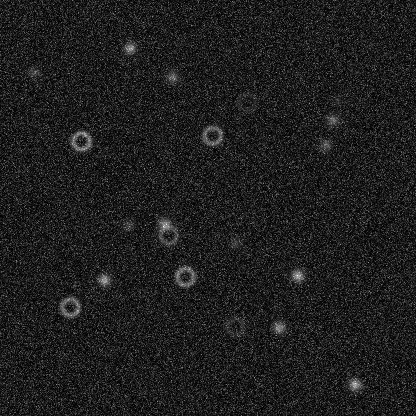Ring: (57, 294, 81, 318), (222, 314, 246, 338), (156, 222, 180, 246), (172, 264, 196, 288), (234, 89, 258, 113), (69, 128, 93, 152), (200, 123, 224, 147)
Spot: (324, 111, 340, 127), (346, 376, 362, 392), (329, 92, 345, 108), (96, 271, 112, 287), (227, 234, 243, 250), (270, 319, 286, 335), (121, 40, 137, 56), (156, 215, 172, 231), (289, 267, 305, 283), (25, 64, 41, 80), (120, 216, 136, 232), (317, 137, 333, 153), (164, 68, 180, 84)
